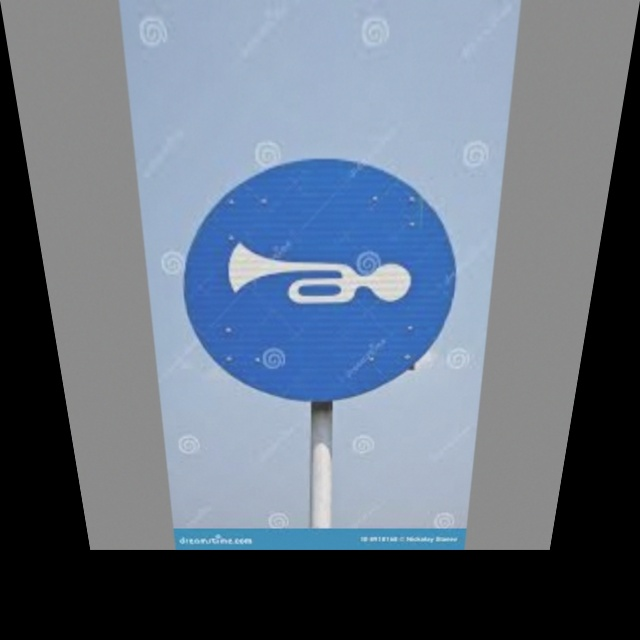Compulsory_Sound_Horn: (173, 155, 466, 396)
